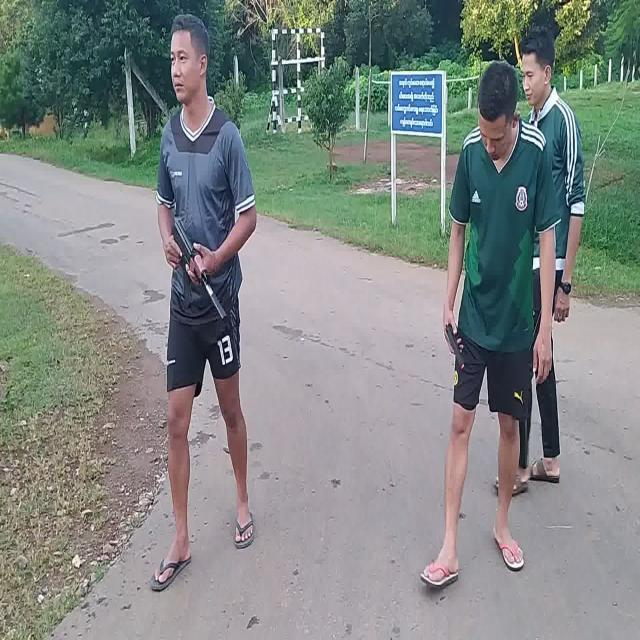gun: (175, 220, 227, 323), (445, 324, 463, 371)
